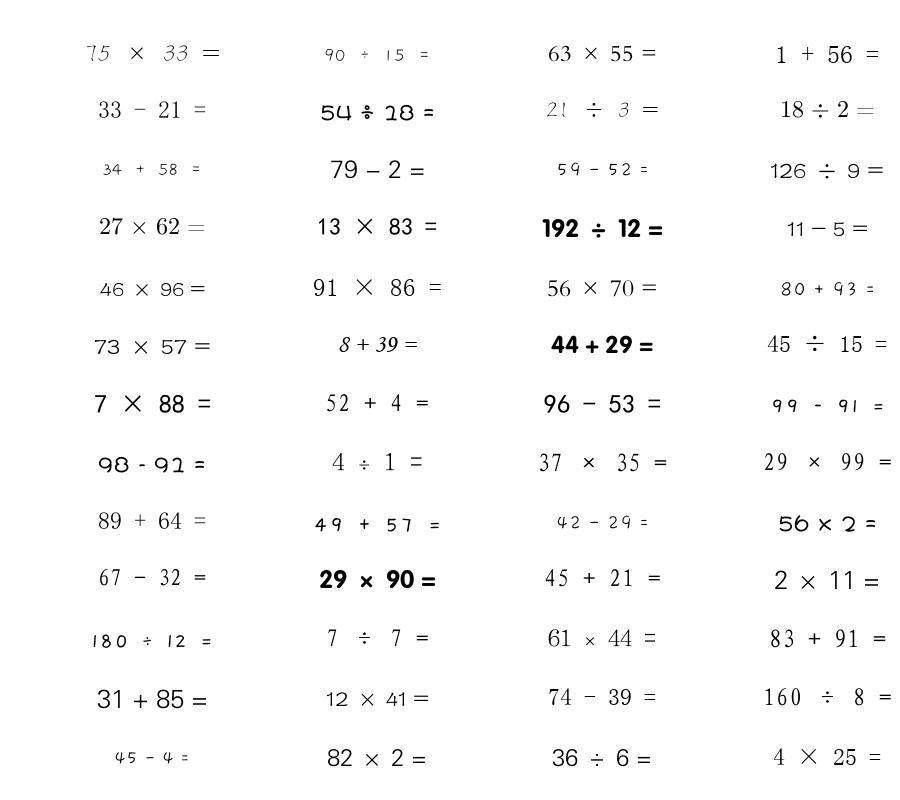MQ: (537, 453, 667, 472), (542, 218, 663, 238), (319, 569, 436, 589), (763, 453, 892, 471), (763, 688, 892, 706), (85, 45, 220, 62), (94, 394, 211, 413), (544, 394, 661, 413), (769, 629, 886, 648), (97, 689, 208, 709), (313, 279, 442, 296), (544, 569, 661, 587), (317, 218, 437, 235), (767, 335, 887, 352), (774, 570, 880, 589), (320, 104, 435, 121), (98, 568, 206, 586), (548, 629, 656, 647), (551, 335, 653, 354), (99, 217, 206, 235), (552, 748, 652, 767), (547, 280, 658, 297), (325, 394, 429, 412), (326, 629, 429, 647), (548, 45, 657, 62), (98, 101, 206, 118), (98, 456, 206, 473), (98, 512, 206, 529), (548, 688, 656, 705), (773, 748, 881, 765), (770, 163, 884, 179), (546, 102, 659, 118), (313, 518, 442, 532), (330, 160, 425, 179), (327, 749, 427, 767), (775, 46, 879, 63), (94, 339, 211, 354), (780, 100, 875, 118), (91, 634, 213, 648), (778, 515, 877, 532), (332, 453, 423, 471), (770, 399, 885, 413), (100, 282, 205, 297), (326, 692, 429, 707), (780, 281, 875, 297), (324, 48, 431, 62), (556, 162, 649, 177), (556, 515, 649, 530), (102, 163, 202, 176), (337, 337, 417, 352), (787, 222, 868, 236), (114, 752, 190, 765)
